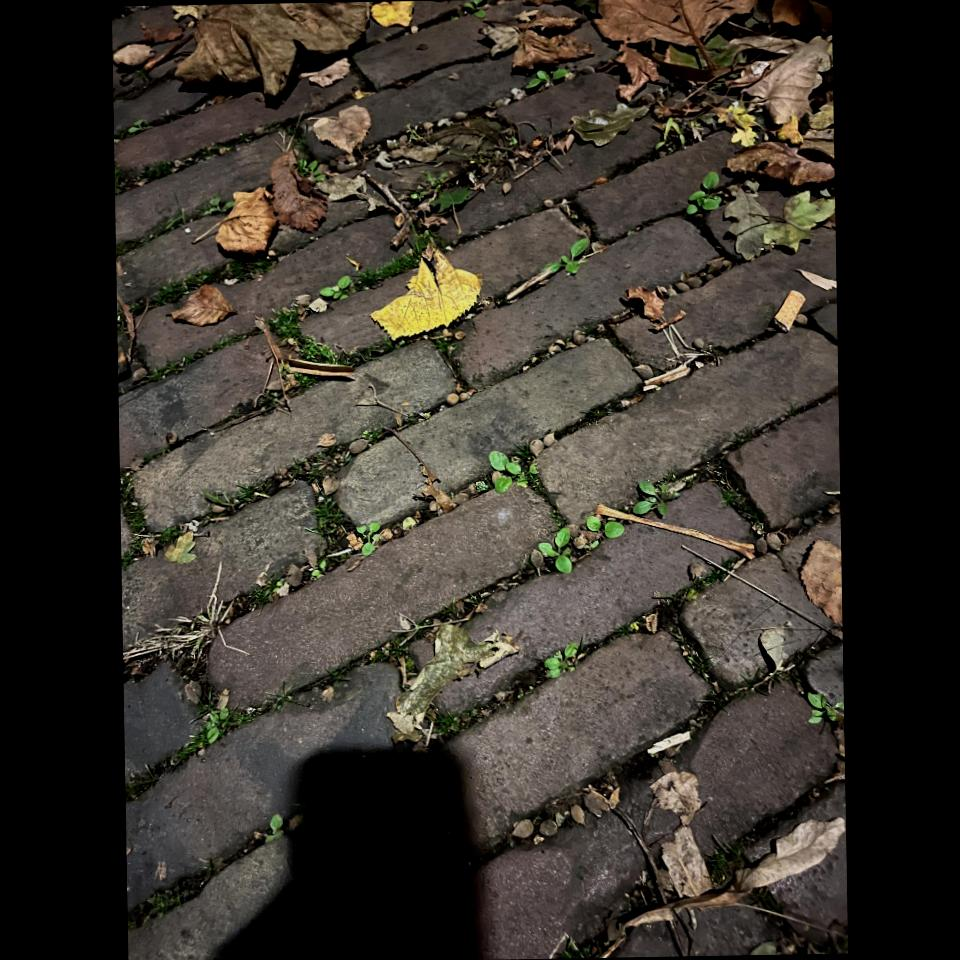weed: (119, 331, 257, 397), (269, 307, 393, 364), (291, 447, 350, 549), (613, 475, 694, 522), (356, 250, 420, 291), (153, 618, 218, 654), (687, 172, 722, 215), (501, 457, 536, 493), (538, 528, 580, 557), (545, 643, 579, 678), (304, 313, 328, 323), (144, 640, 153, 653)
